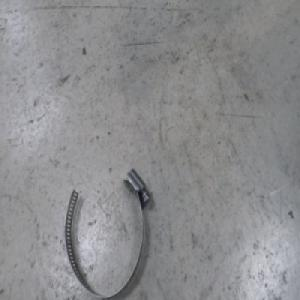AdjustableClamp: (64, 165, 154, 298)
